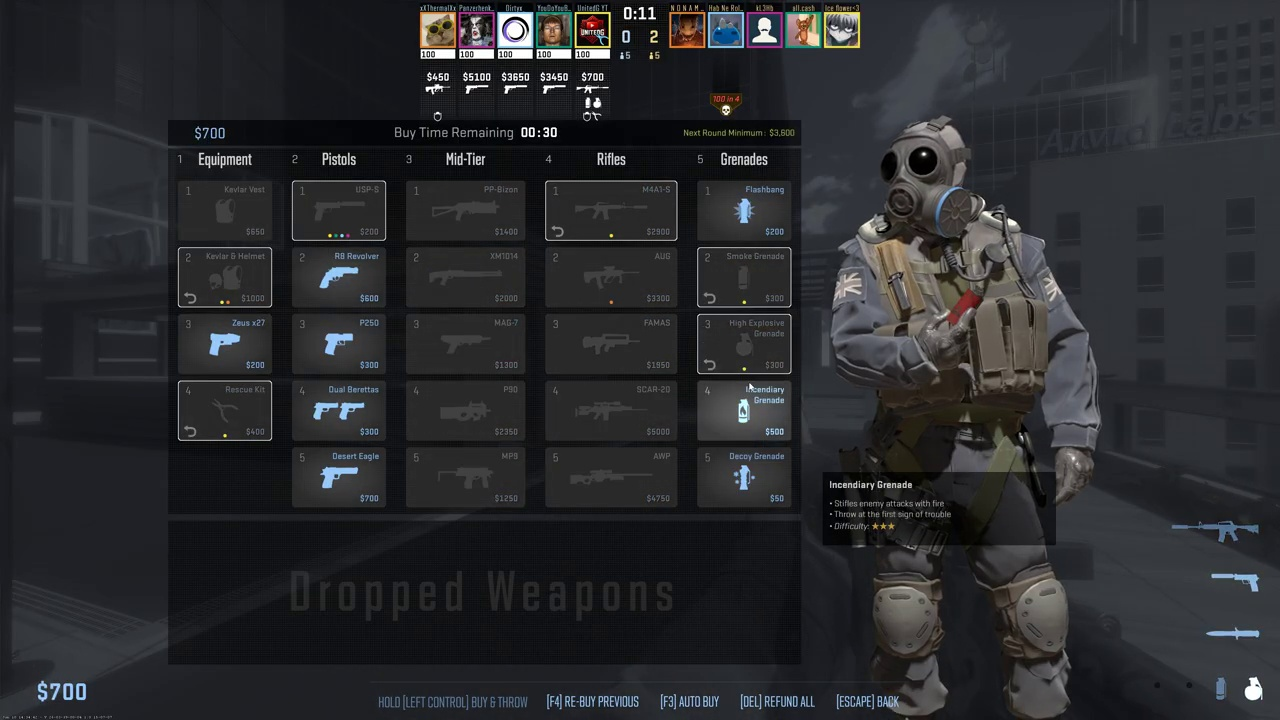CT: (854, 117, 1071, 720)
